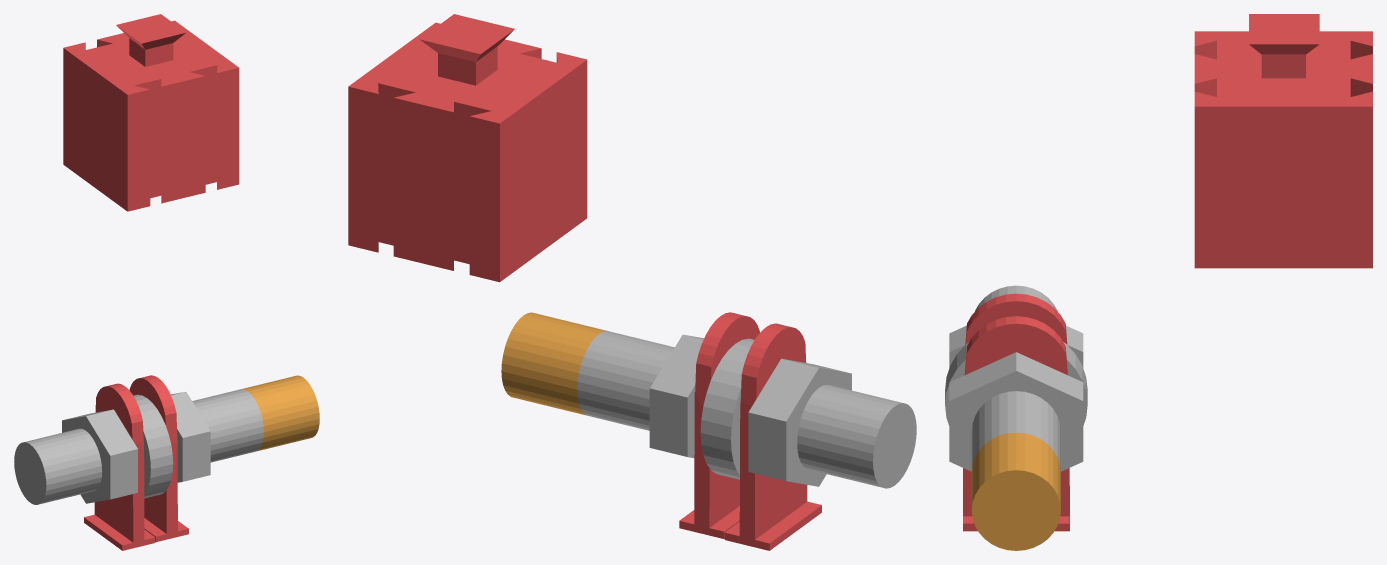
File: sensor2.fbx
3 renders of one model, left to right at view 1: azimuth 30°, elevation 25°; view 2: azimuth 150°, elevation 25°; view 3: azimuth 270°, elevation 25°, orthographic. The views are drawn at different scales.
Visible parts, largest first — view 1: Cube, Cylinder.002, Cylinder.004, Plane.001, Cylinder, Cylinder.001, Cylinder.005, Plane, Cylinder.003; view 2: Cube, Cylinder.002, Cylinder.004, Plane.001, Cylinder, Cylinder.001, Cylinder.005, Plane, Cylinder.003; view 3: Cube, Cylinder, Plane, Cylinder.005, Cylinder.001, Cylinder.004, Cylinder.003, Plane.001, Cylinder.002.
Boxes of the visible parts, x1,y1,x2,y2 form: Cube: (63,14,239,211); Cylinder.002: (14,428,102,504); Cylinder.004: (84,383,155,550); Plane.001: (62,409,137,503); Cylinder: (242,375,319,451); Cylinder.001: (192,389,263,462); Cylinder.005: (129,375,188,542); Plane: (170,391,210,482); Cylinder.003: (133,394,173,498); Cube: (348,14,587,282); Cylinder.002: (797,384,916,488); Cylinder.004: (724,323,821,550); Plane.001: (748,358,851,486); Cylinder: (501,312,606,415); Cylinder.001: (577,331,674,430); Cylinder.005: (679,312,759,538); Plane: (649,334,703,457); Cylinder.003: (700,338,754,479); Cube: (1194,14,1372,268); Cylinder: (971,432,1060,550); Plane: (949,352,1083,471); Cylinder.005: (963,316,1069,531); Cylinder.001: (971,391,1060,471); Cylinder.004: (963,293,1069,507); Cylinder.003: (945,342,1087,425); Plane.001: (949,325,1083,367); Cylinder.002: (975,285,1057,311).
Bounding box in the file's own units: 490 × 688 × 480.
